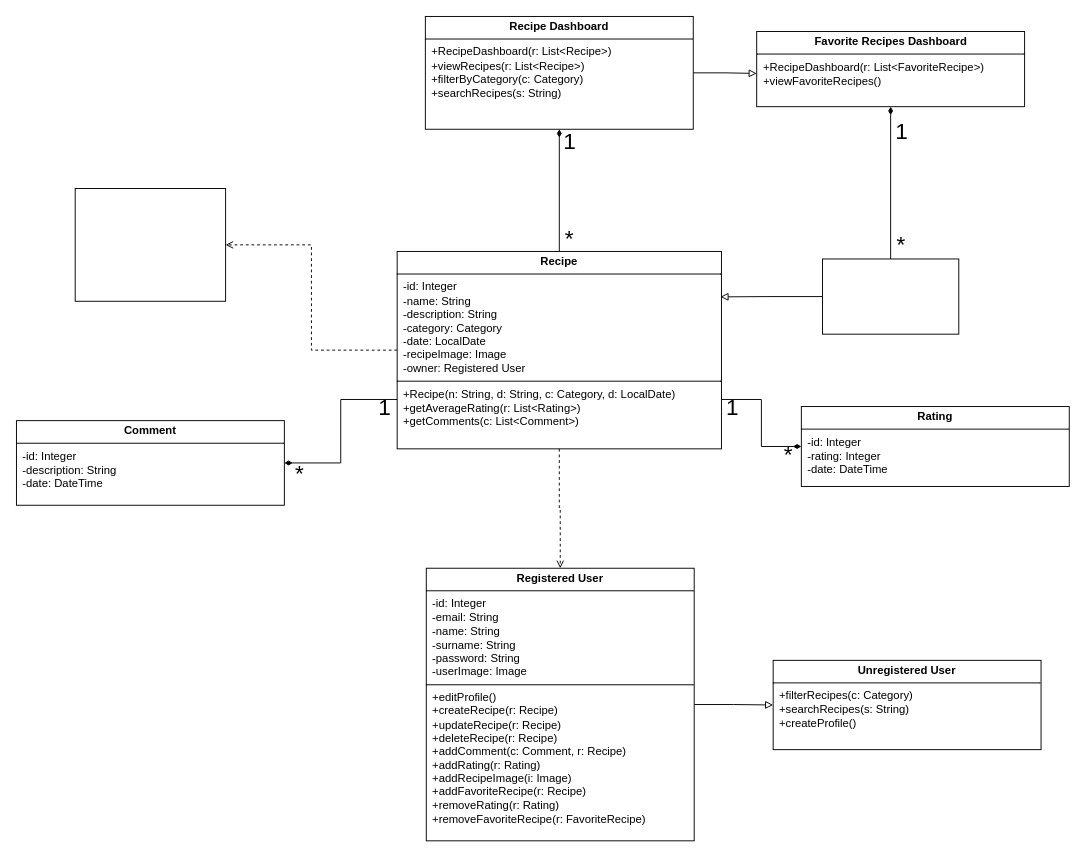
Some shapes in this 1086 by 857 pixel diagram are drawn without their labels. The shapes that lost their labels are listed below. From the top down, each one's box as (x1, y1, x2, y2) in pixels, then its label:
(74, 188, 226, 301): <<Enum>> Category BREAKFAST LUNCH DINNER SNACK
(822, 258, 959, 334): Favorite Recipe -id: Integer -owner: RegisteredUser
